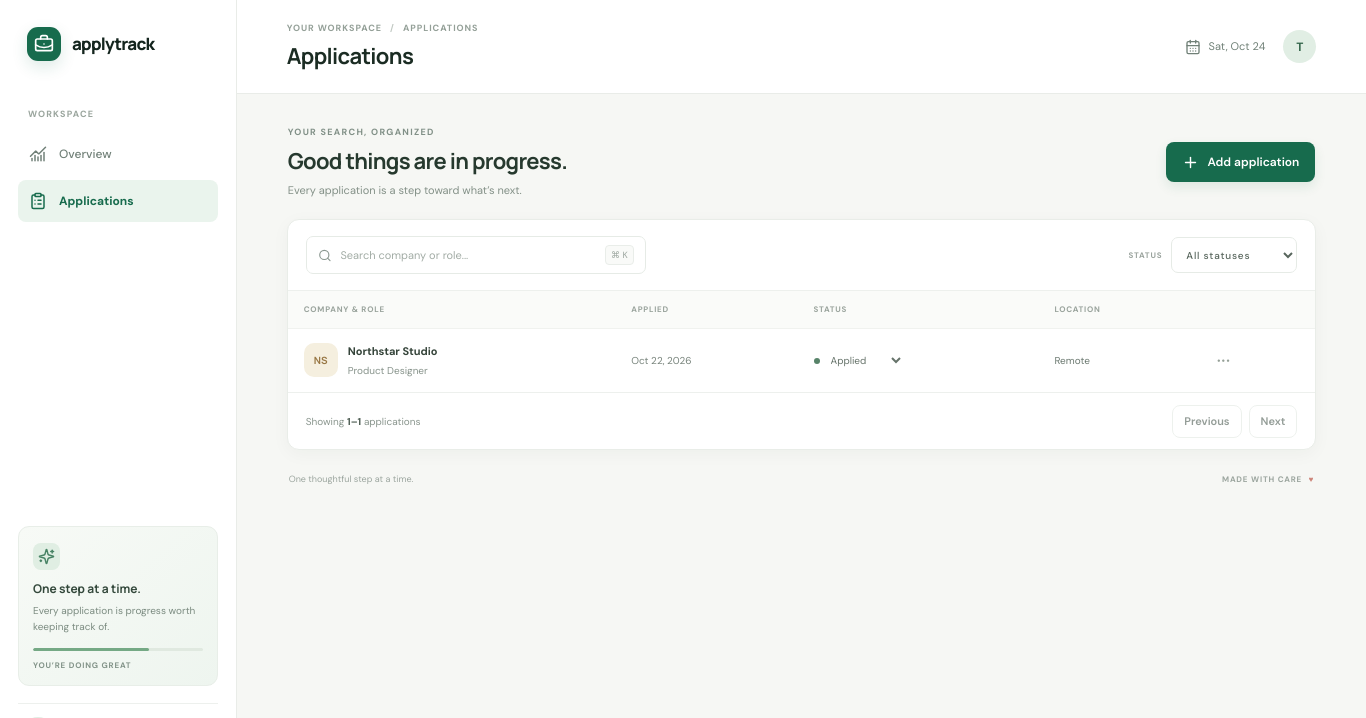
applications workflow › loads, searches, filters, and creates an application
Check: the text "Northstar Studio" is shown, box [348, 342, 438, 359]
Type "Northstar" into the field named "Search applications" at (468, 255), box [340, 247, 596, 263]
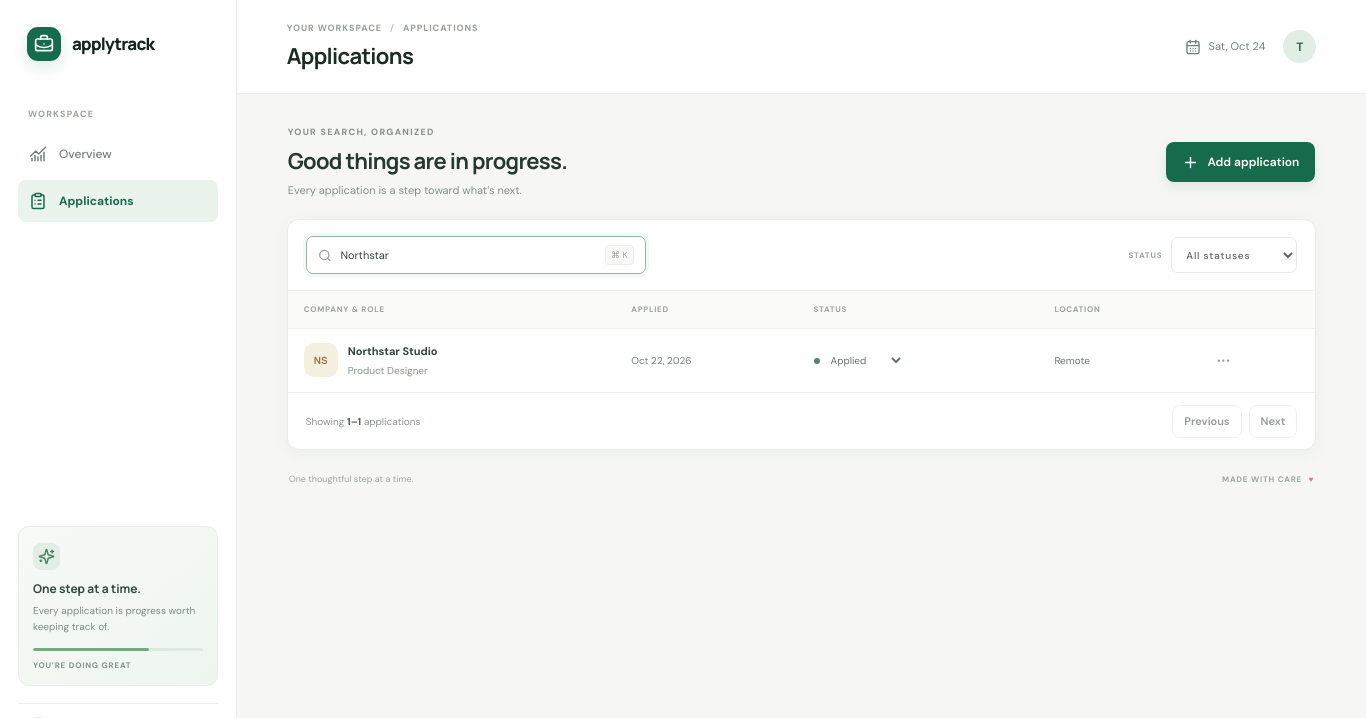
Select "Offer" in the dropdown named "Filter by status" at (1234, 255), box [1171, 237, 1297, 273]
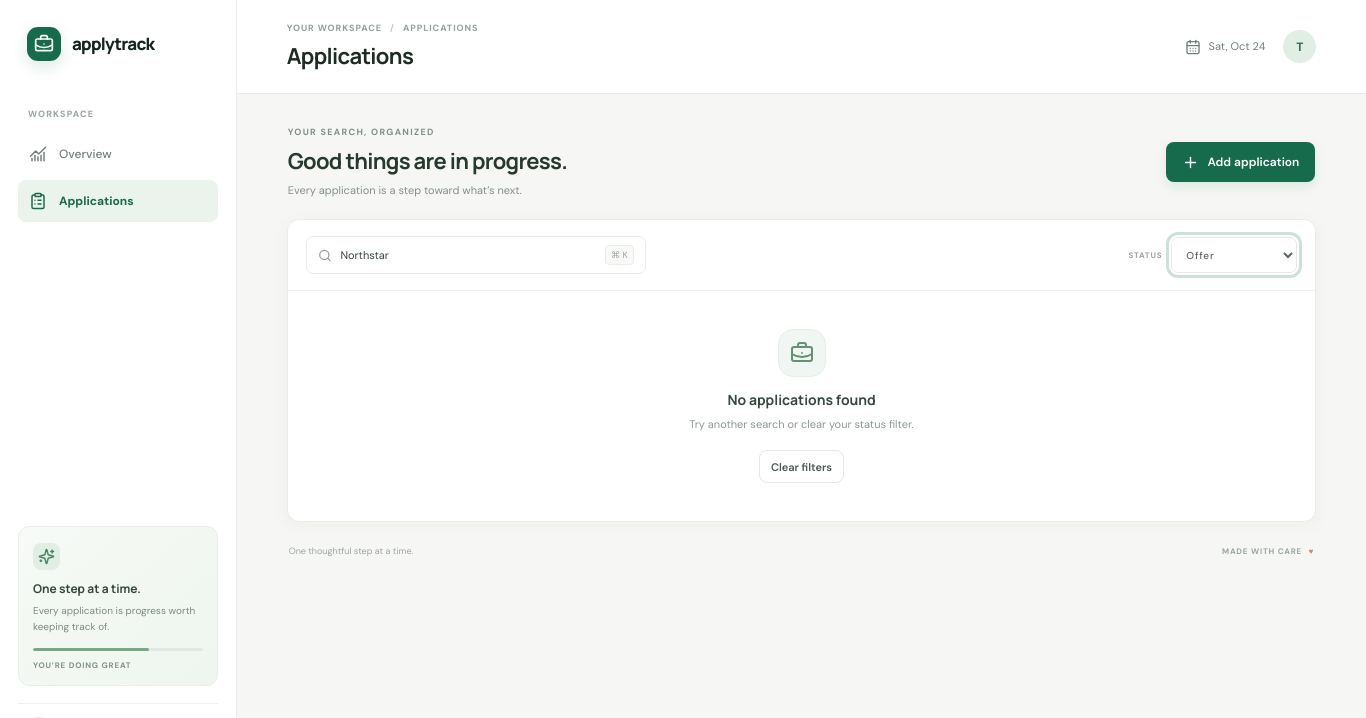
Click the button "Add application" at (1240, 162), box [1166, 142, 1315, 182]
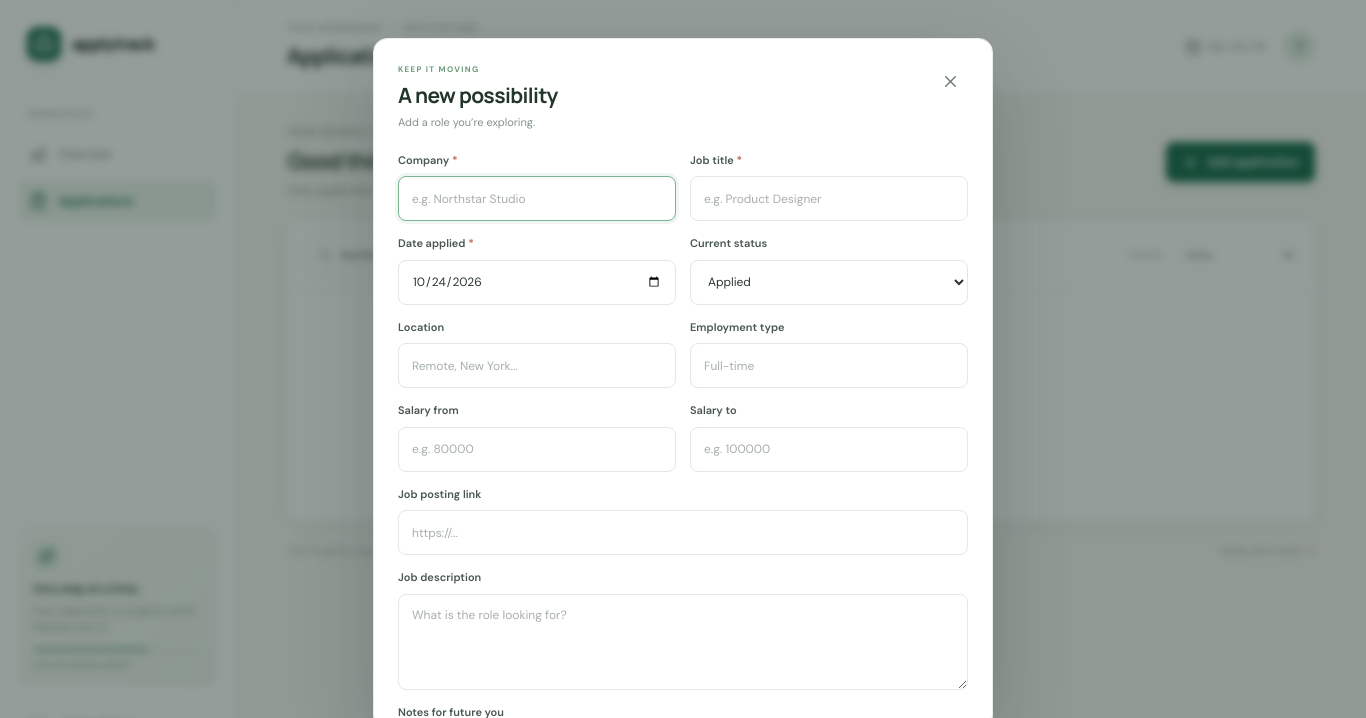
Type "New Company" into the field with placeholder "e.g. Northstar Studio" at (537, 199), box [398, 176, 676, 221]
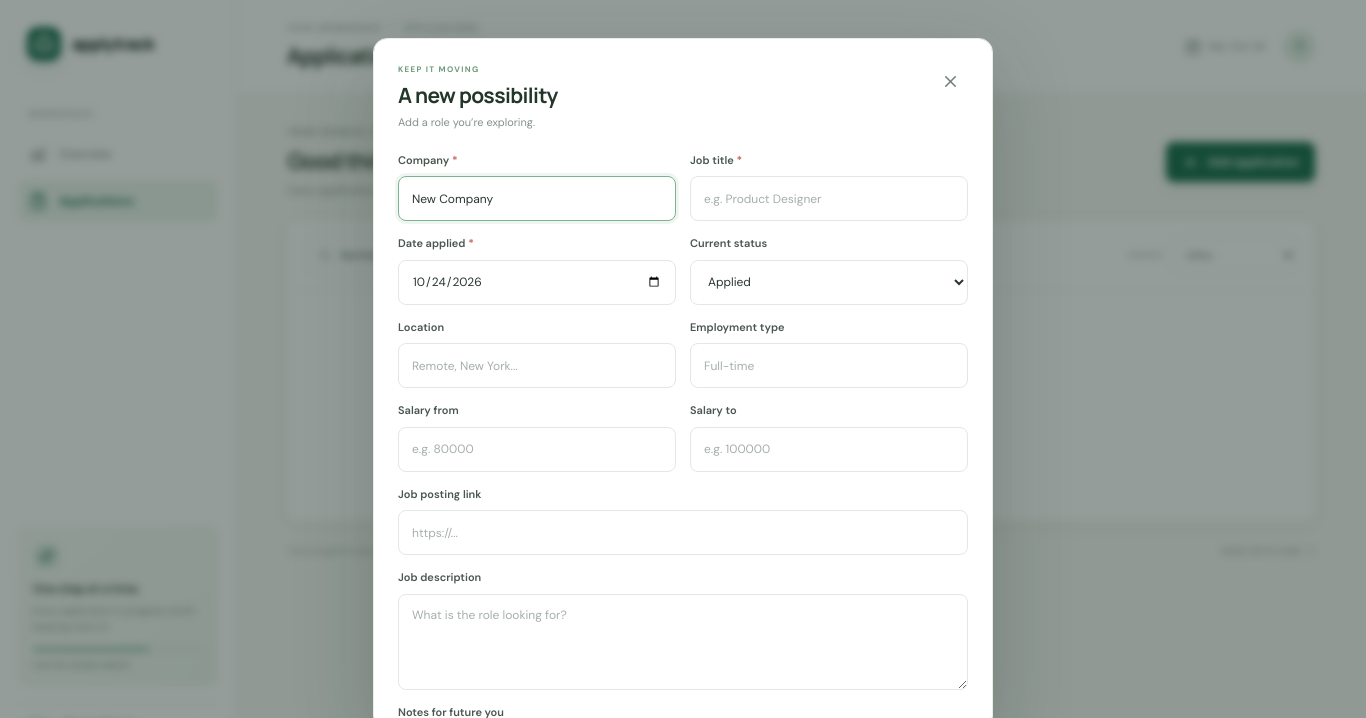
Type "Researcher" into the field with placeholder "e.g. Product Designer" at (829, 199), box [690, 176, 968, 221]
(page scrolled)
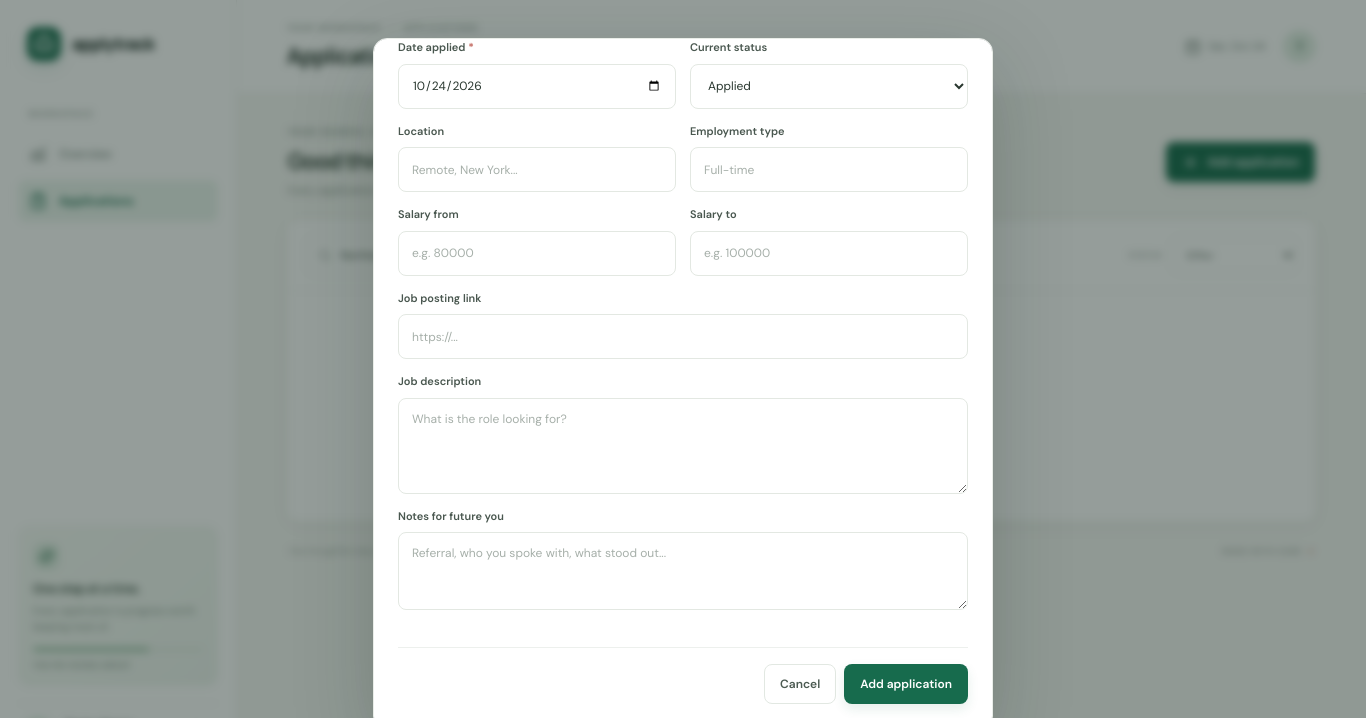
Click the button "Add application" at (906, 684), box [844, 664, 968, 704]
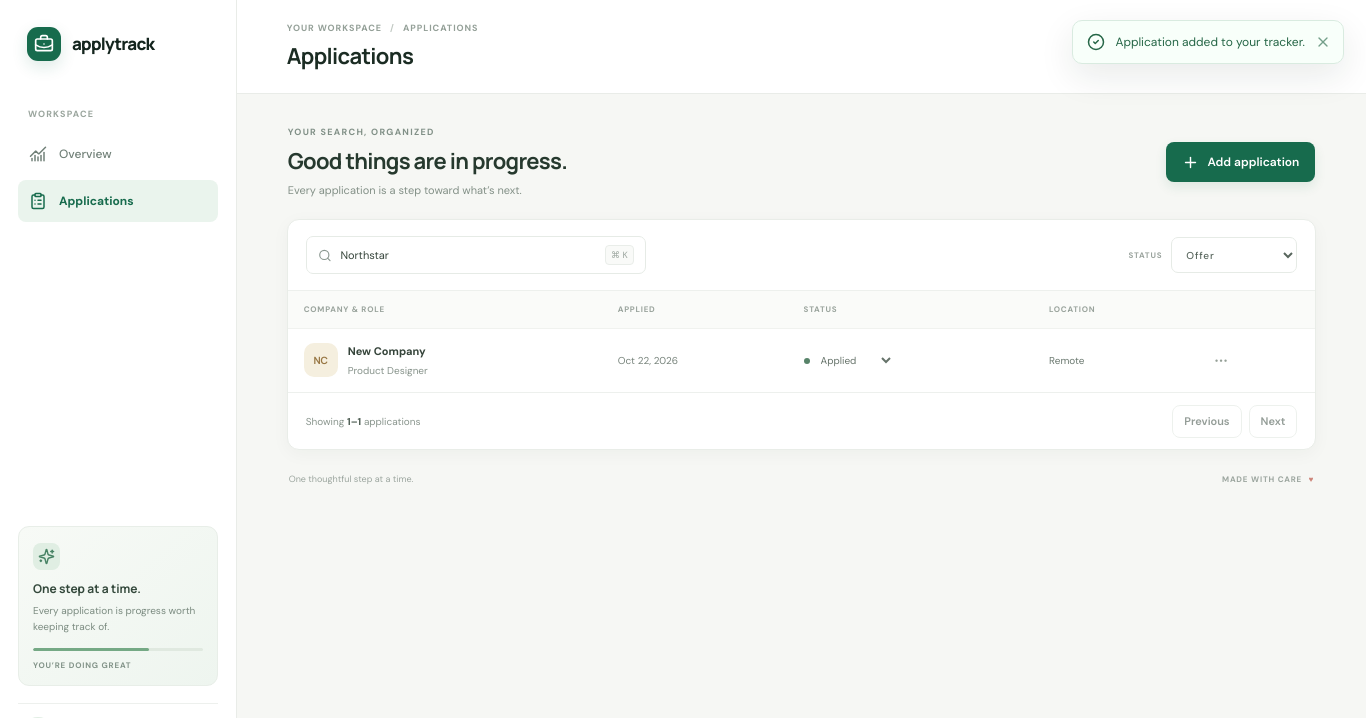
Check: the text "Application added to your tracker." is shown, box [1116, 33, 1305, 51]
